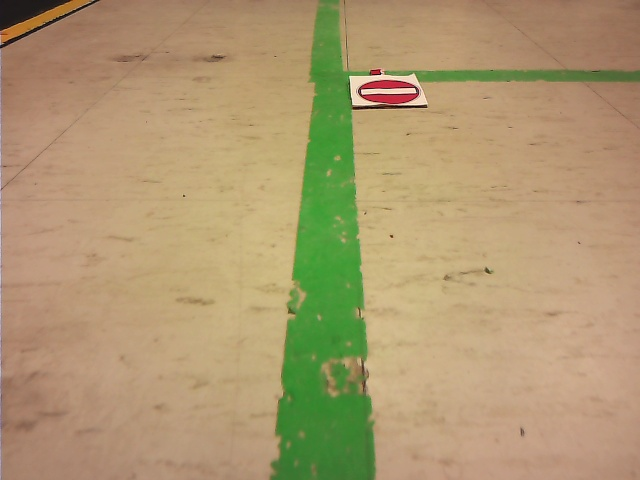NO ENTRY: (356, 80, 418, 104)
